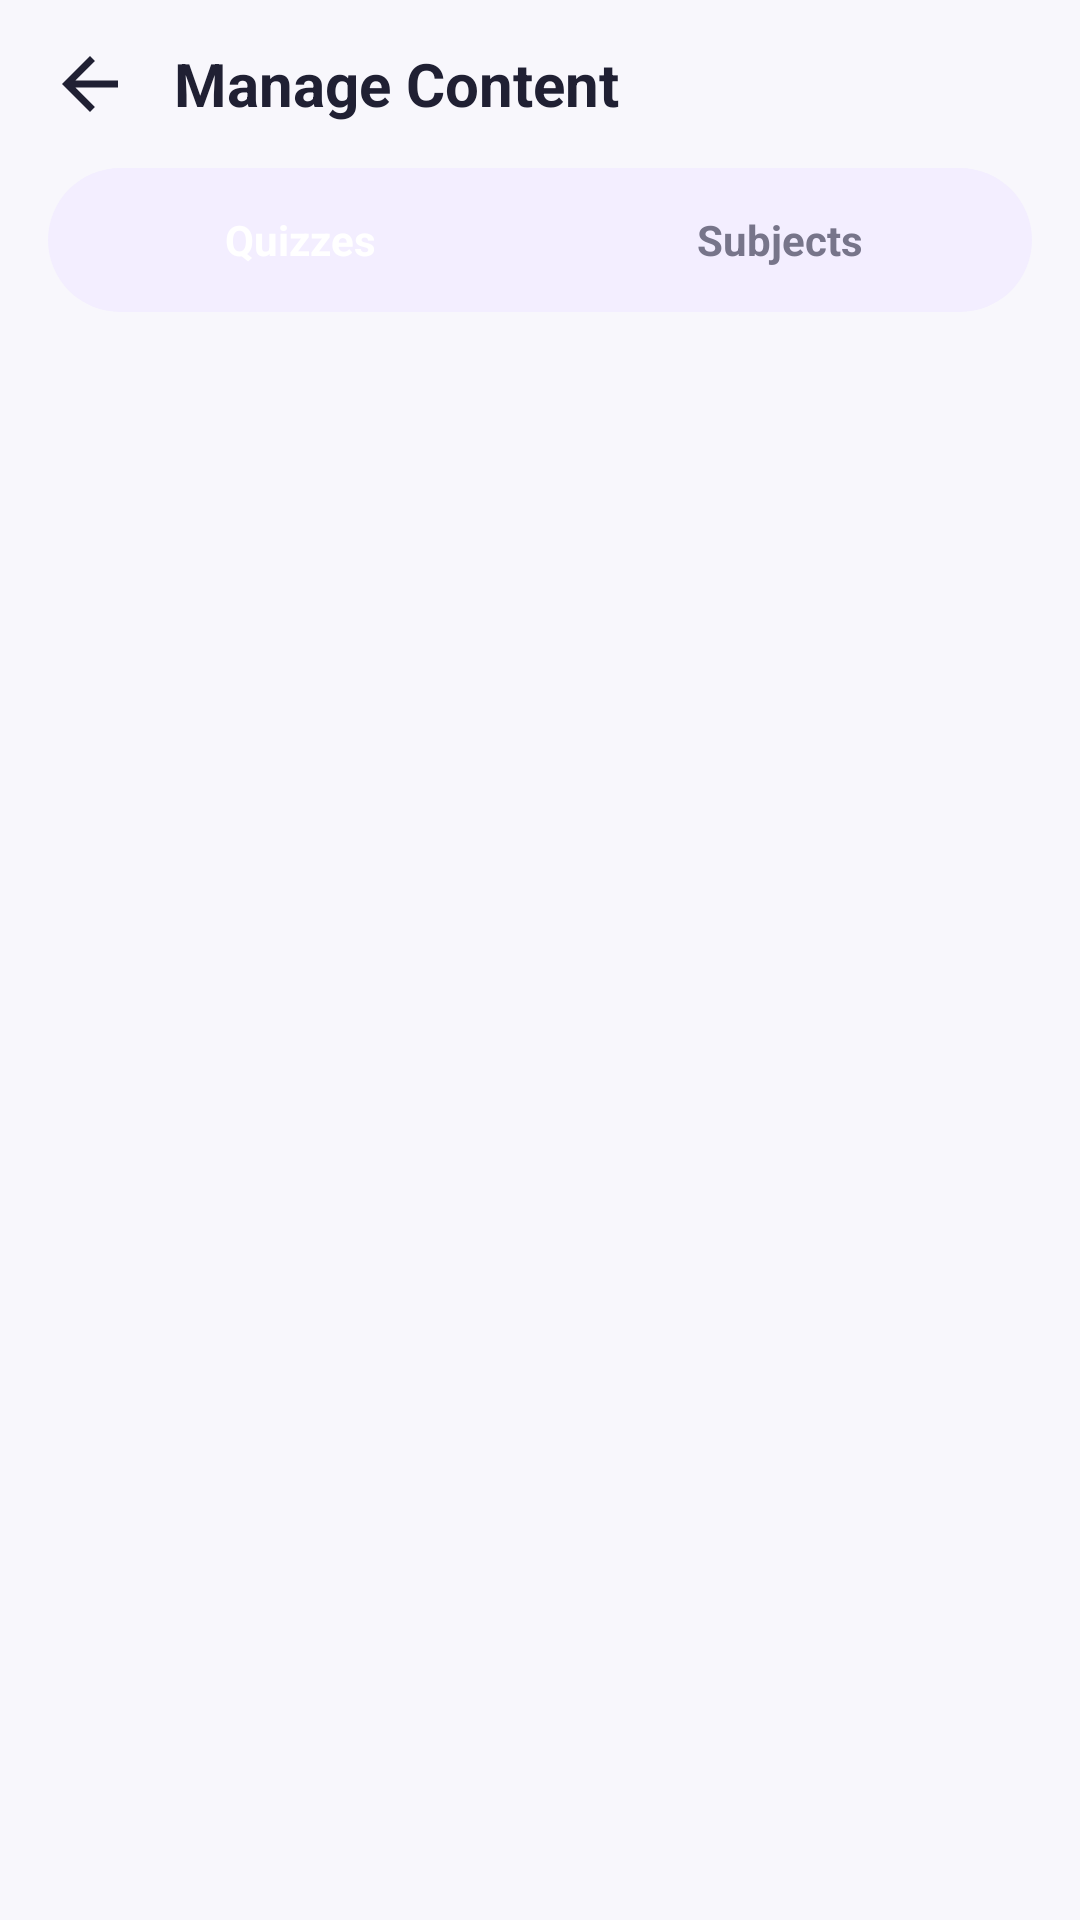

Named icons in this screenshot (1080w x 1920h) and their bounding boxes, (x1, y1, x2, y2):
Back: (62, 56, 118, 112)
